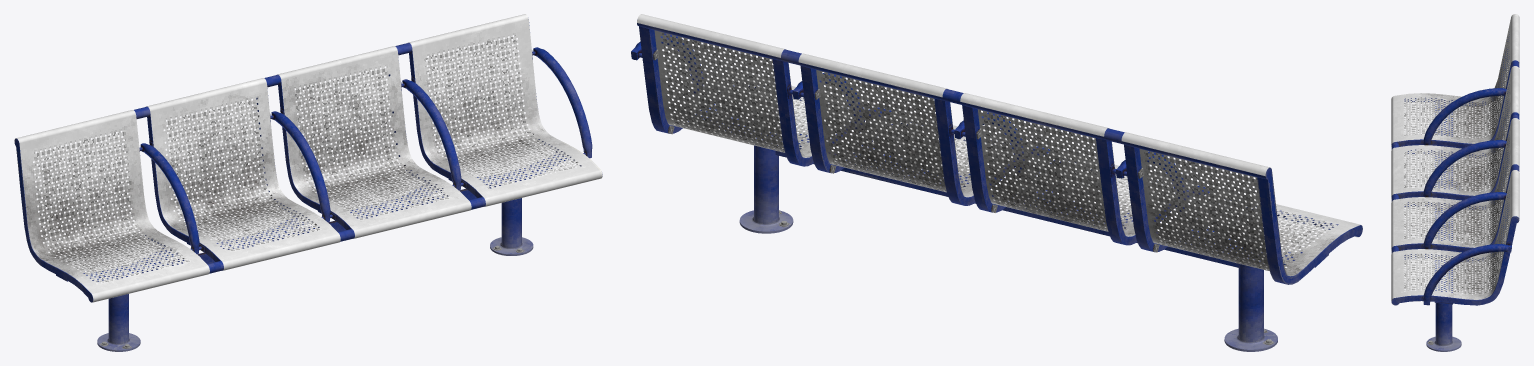
Rendered from metro_bench_model.glb.
3 views of the same model, side by side, from view 1: azimuth 30°, elevation 25°; view 2: azimuth 150°, elevation 25°; view 3: azimuth 270°, elevation 25° (orthographic). The views are drawn at different scales.
Visible parts, largest first — view 1: Frame_L1_standardSurface1_0; view 2: Frame_L1_standardSurface1_0; view 3: Frame_L1_standardSurface1_0.
Boxes of the visible parts, x1,y1,x2,y2 form: Frame_L1_standardSurface1_0: (14, 14, 602, 351); Frame_L1_standardSurface1_0: (631, 14, 1362, 351); Frame_L1_standardSurface1_0: (1391, 14, 1519, 351).
Size of the model in its own units: 2.68 by 0.9144 by 0.7026.
Materials: 1 (1 with a texture image).
